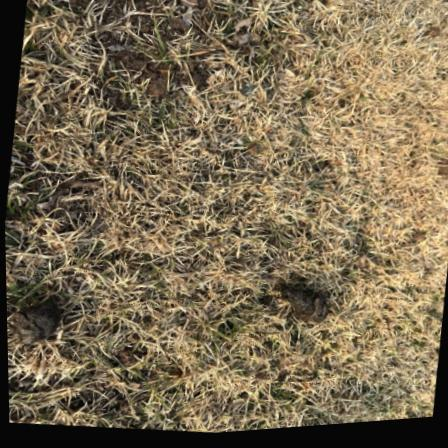dog-poop: (5, 288, 67, 347), (267, 285, 332, 336)
